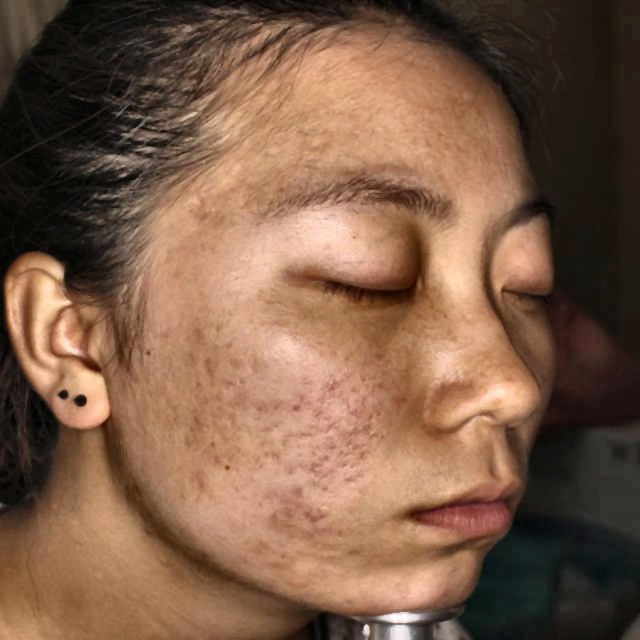comedone: (276, 493, 332, 539), (278, 566, 325, 588)
